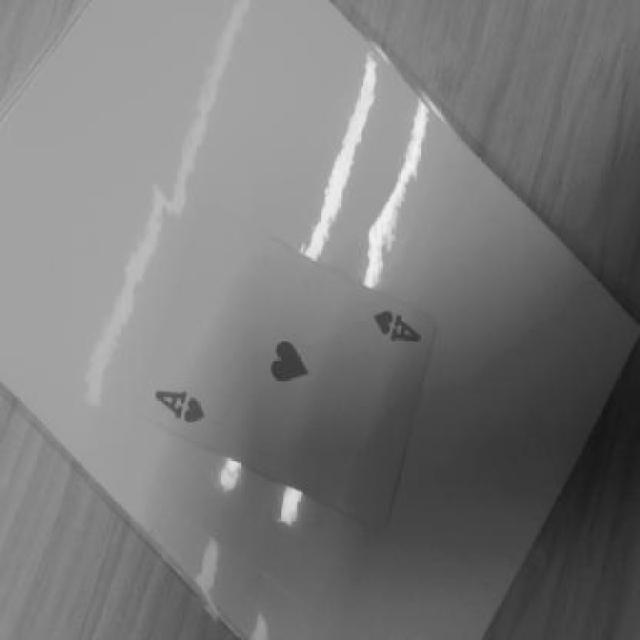AH: (356, 294, 433, 354), (140, 376, 212, 435)
